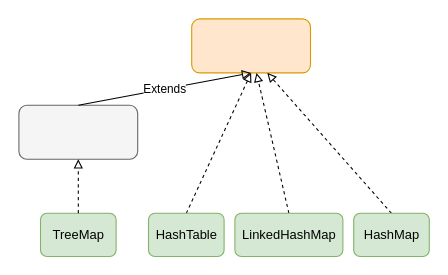
This 448x275 diagram has some shape labels left out. The shapes that lost their labels are listed below. From the top down, each one's centre as x and y in pixels, then its label:
the point at 250,45: «interface» Map
the point at 78,131: «interface» SortedMap
